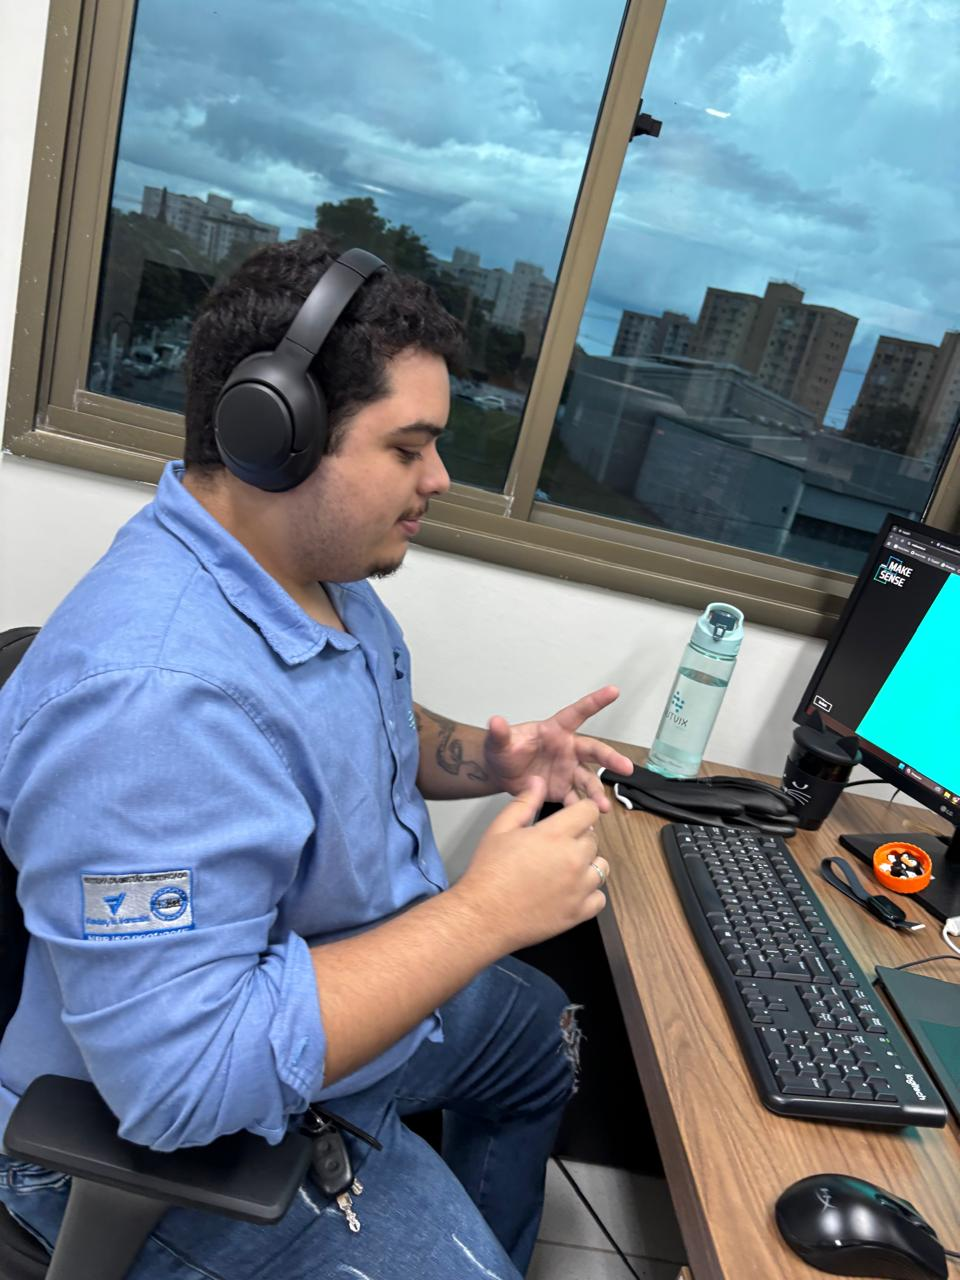no-gloves: (470, 775, 616, 927), (469, 680, 626, 810)
